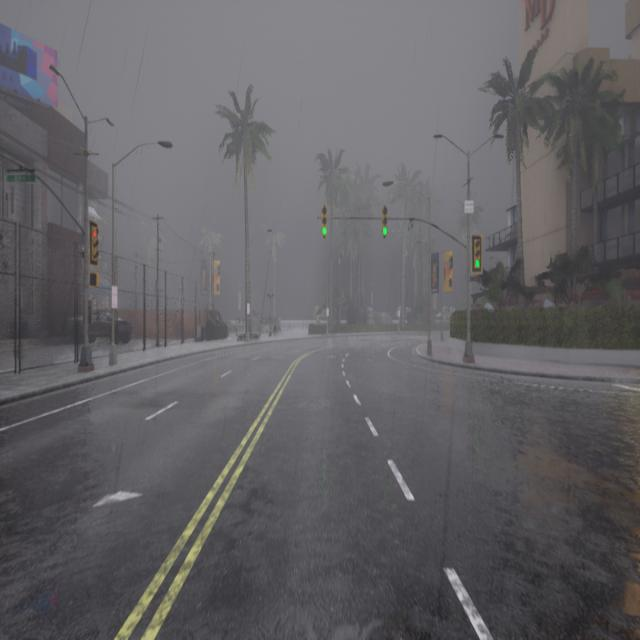6: (93, 230, 98, 238)
9: (90, 222, 99, 263), (473, 235, 481, 271), (321, 205, 328, 238), (382, 205, 388, 238)
bien_hieu_lenh: (382, 226, 388, 237), (322, 226, 328, 237), (474, 258, 480, 268)
